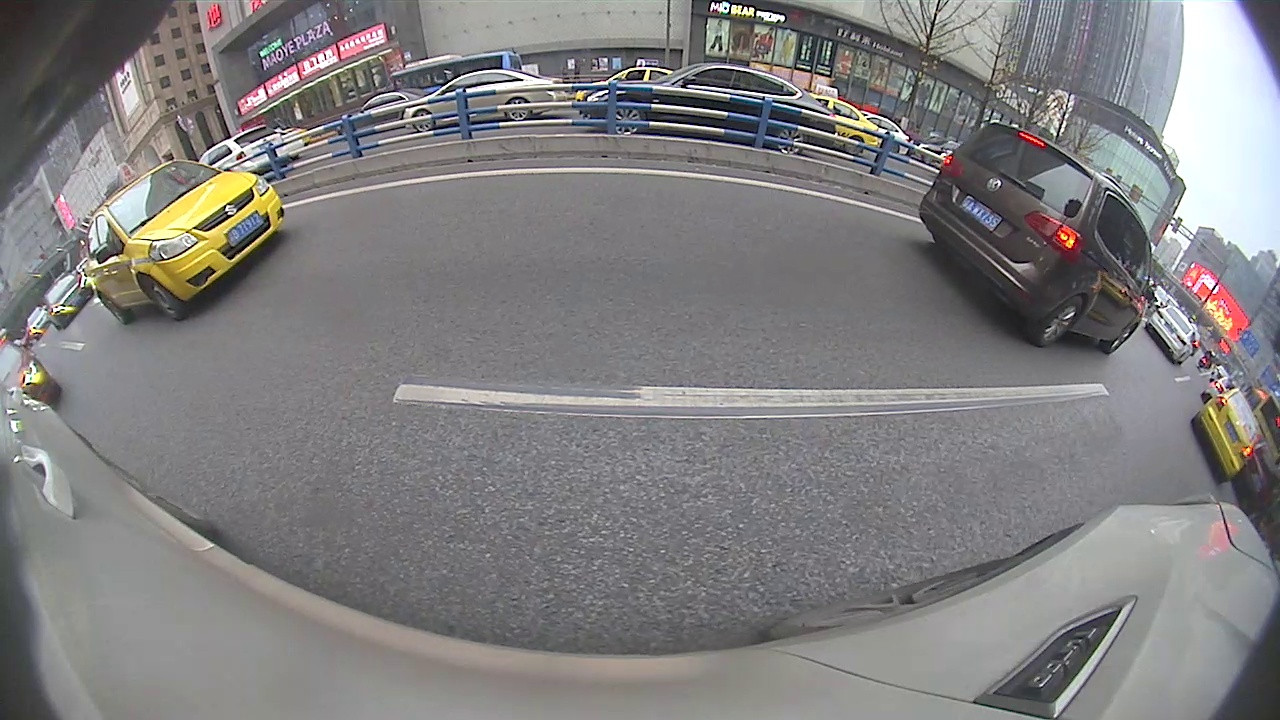car: (916, 117, 1159, 356), (82, 157, 291, 325), (578, 60, 839, 157), (402, 66, 569, 134), (1188, 385, 1266, 484), (1145, 303, 1206, 368)
front: (139, 277, 183, 322), (607, 101, 644, 138), (1106, 320, 1137, 356), (412, 110, 436, 134)
rear: (1034, 297, 1083, 347), (94, 292, 126, 324), (774, 123, 808, 153), (504, 98, 533, 124)
